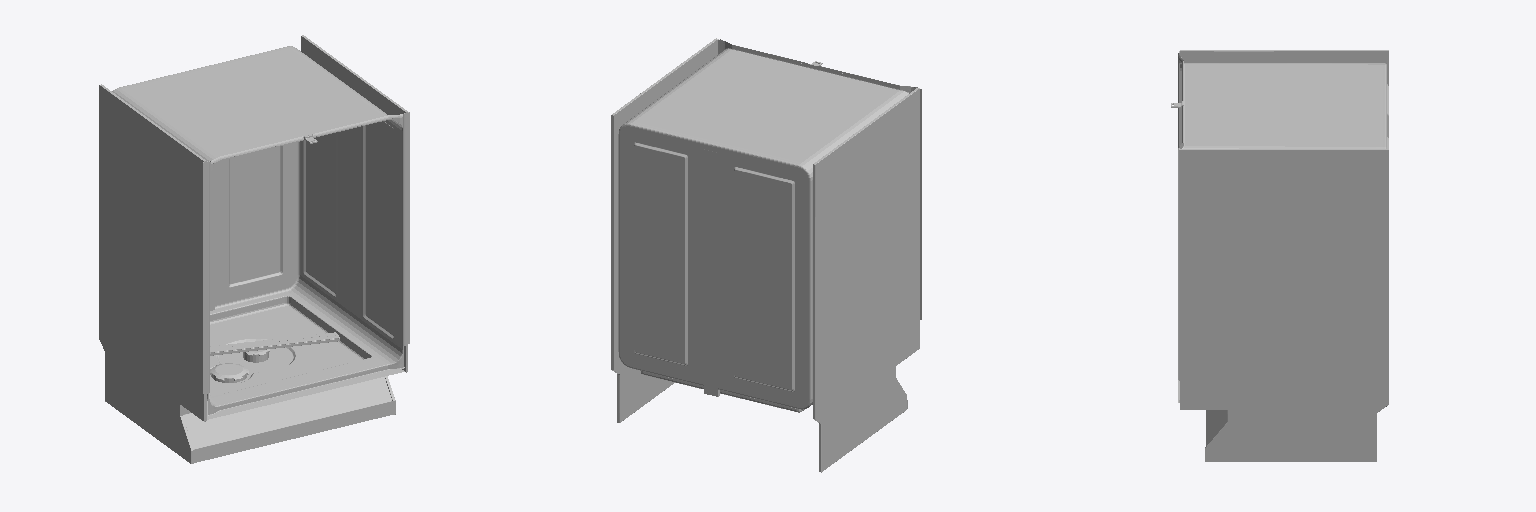
File: DishwasherBase.obj
3 renders of one model, left to right at view 1: azimuth 30°, elevation 25°; view 2: azimuth 150°, elevation 25°; view 3: azimuth 270°, elevation 25°, orthographic.
Visible parts, largest first — view 1: SM_Dishwasher_Base_5; view 2: SM_Dishwasher_Base_5; view 3: SM_Dishwasher_Base_5.
Boxes of the visible parts, x1=… form: SM_Dishwasher_Base_5: x1=99, y1=35, x2=409, y2=463; SM_Dishwasher_Base_5: x1=611, y1=38, x2=921, y2=472; SM_Dishwasher_Base_5: x1=1171, y1=50, x2=1388, y2=461.
Size of the model in its own units: 58.4 by 84.39 by 53.47.